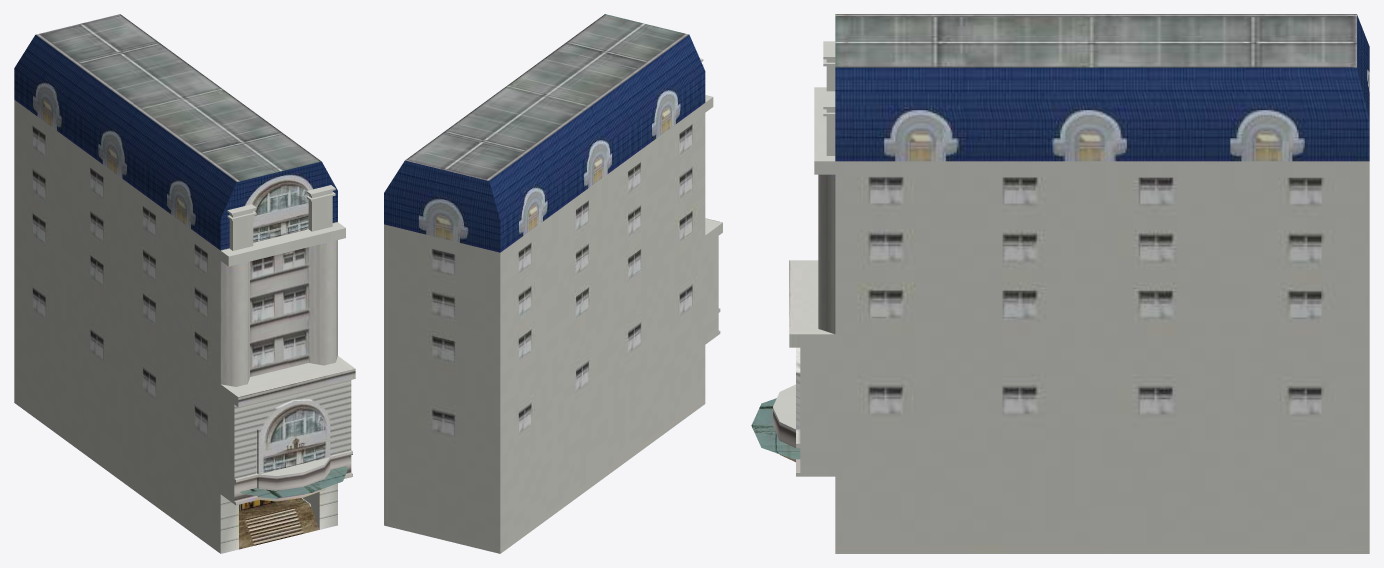
3 renders of one model, left to right at view 1: azimuth 30°, elevation 25°; view 2: azimuth 150°, elevation 25°; view 3: azimuth 270°, elevation 25°, orthographic. The views are drawn at different scales.
Parts seen in each view (by area): view 1: HN1077___Lenid_Hanoi_Hotel; view 2: HN1077___Lenid_Hanoi_Hotel; view 3: HN1077___Lenid_Hanoi_Hotel.
Boxes of the visible parts, left/top/right/bottom form: HN1077___Lenid_Hanoi_Hotel: left=14, top=14, right=355, bottom=553; HN1077___Lenid_Hanoi_Hotel: left=384, top=14, right=722, bottom=553; HN1077___Lenid_Hanoi_Hotel: left=751, top=14, right=1369, bottom=553.
Bounding box in the file's own units: 9.78 × 29.34 × 34.53.
1 material, 1 textured.
